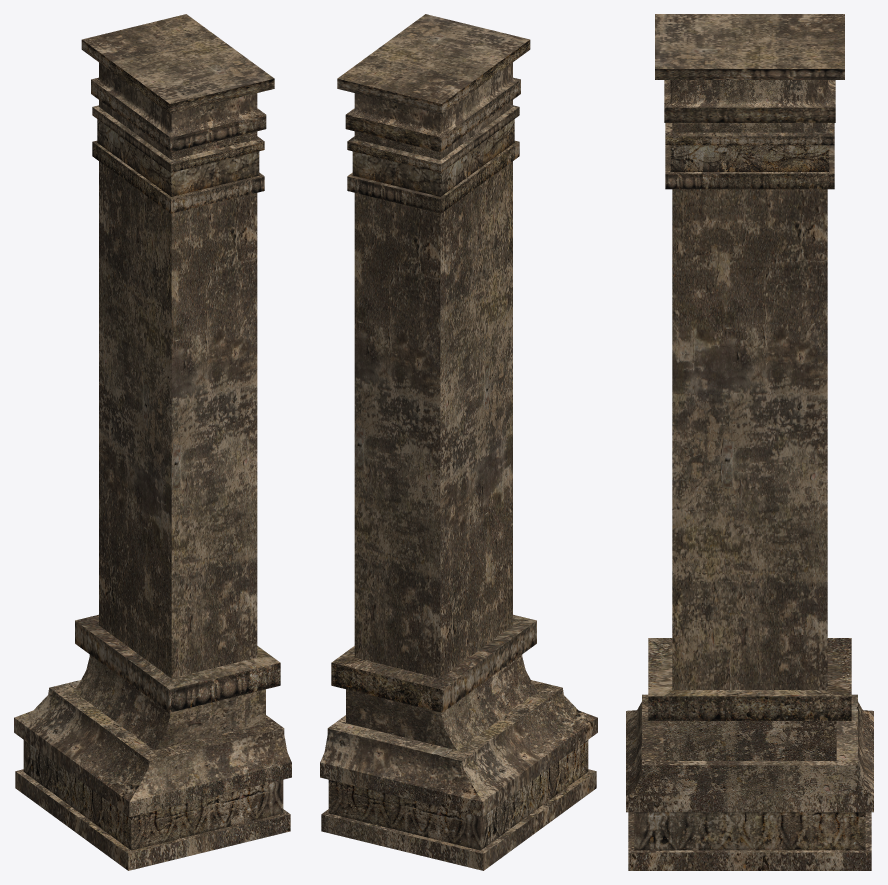
File: materials_5_pillar_long_17.fbx
3 renders of one model, left to right at view 1: azimuth 30°, elevation 25°; view 2: azimuth 150°, elevation 25°; view 3: azimuth 270°, elevation 25°, orthographic. The views are drawn at different scales.
Parts seen in each view (by area): view 1: materials_5_pillar_long_17; view 2: materials_5_pillar_long_17; view 3: materials_5_pillar_long_17.
Boxes of the visible parts, bbox=[...] form: materials_5_pillar_long_17: bbox=[14, 14, 291, 870]; materials_5_pillar_long_17: bbox=[320, 14, 597, 870]; materials_5_pillar_long_17: bbox=[626, 14, 873, 870].
Size of the model in its own units: 111 by 485 by 136.
